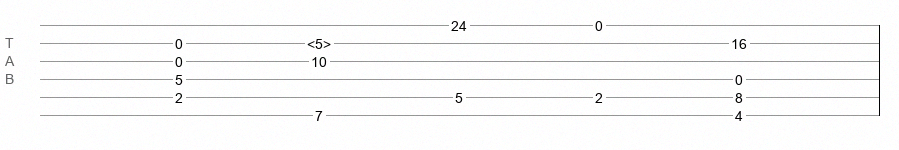0: (175, 36, 183, 46), (175, 54, 183, 64), (595, 18, 603, 28), (735, 72, 743, 82)
10: (311, 54, 327, 64)
16: (731, 36, 747, 46)
2: (175, 90, 183, 100), (595, 90, 603, 100)
24: (451, 18, 467, 28)
4: (735, 108, 743, 118)
5: (175, 72, 183, 82), (455, 90, 463, 100)
7: (315, 108, 323, 118)
8: (735, 90, 743, 100)
harmonic: (307, 36, 331, 46)
